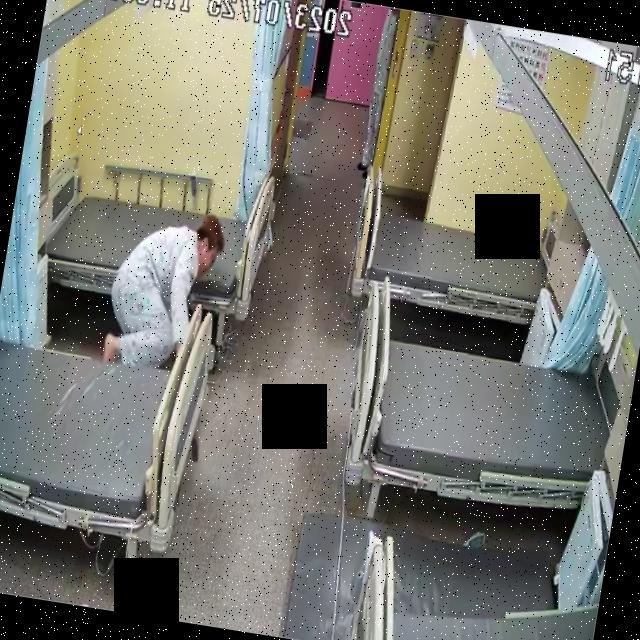bed: (0, 274, 221, 550), (338, 324, 622, 516), (26, 168, 276, 322), (350, 198, 552, 324)
danger: (97, 198, 231, 386)
patient: (98, 202, 226, 388)
